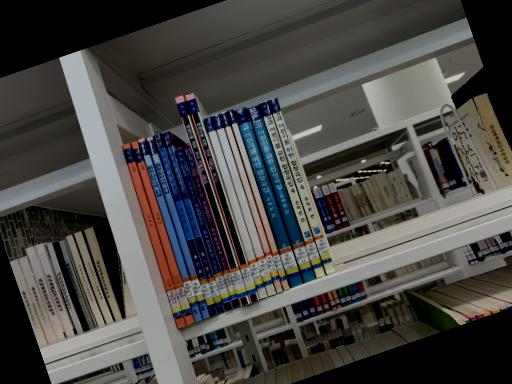book-spine: (174, 94, 249, 306), (185, 92, 259, 302), (247, 103, 316, 282), (234, 106, 302, 287), (130, 140, 195, 324), (259, 99, 326, 277), (122, 142, 186, 328), (268, 97, 335, 274), (153, 131, 217, 316), (138, 137, 202, 321), (212, 113, 276, 296), (204, 115, 267, 299), (146, 136, 209, 319), (161, 130, 224, 313), (227, 109, 290, 290), (221, 111, 283, 293), (183, 144, 241, 308), (175, 145, 232, 311)
